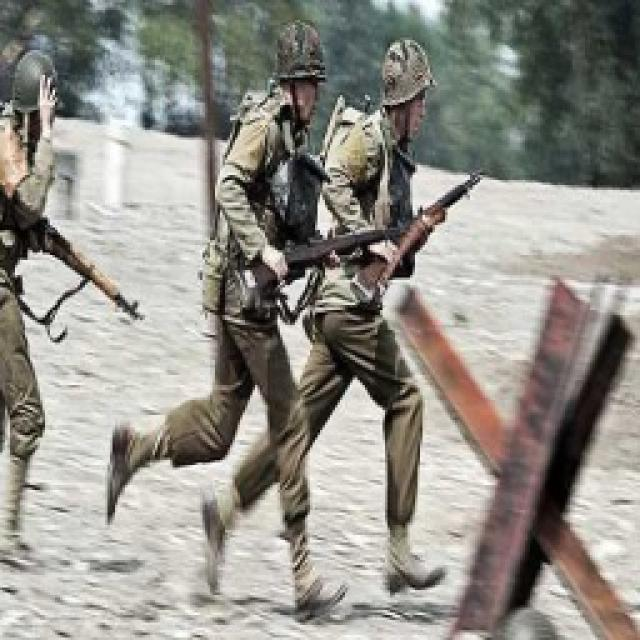long weapon: (0, 171, 164, 352)
